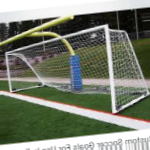goals: (4, 23, 150, 117)
